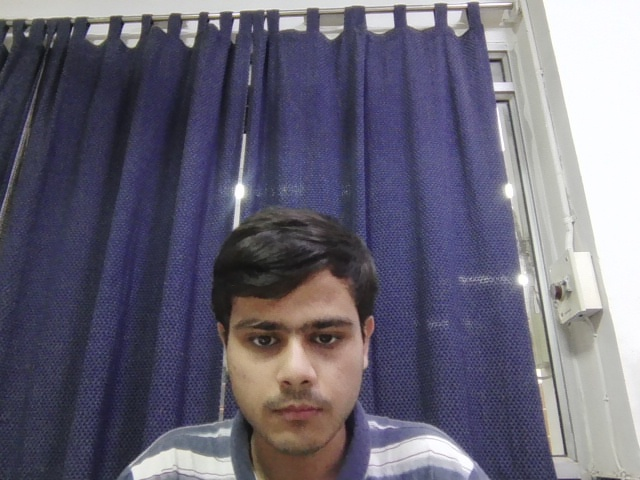face: (216, 212, 377, 452)
